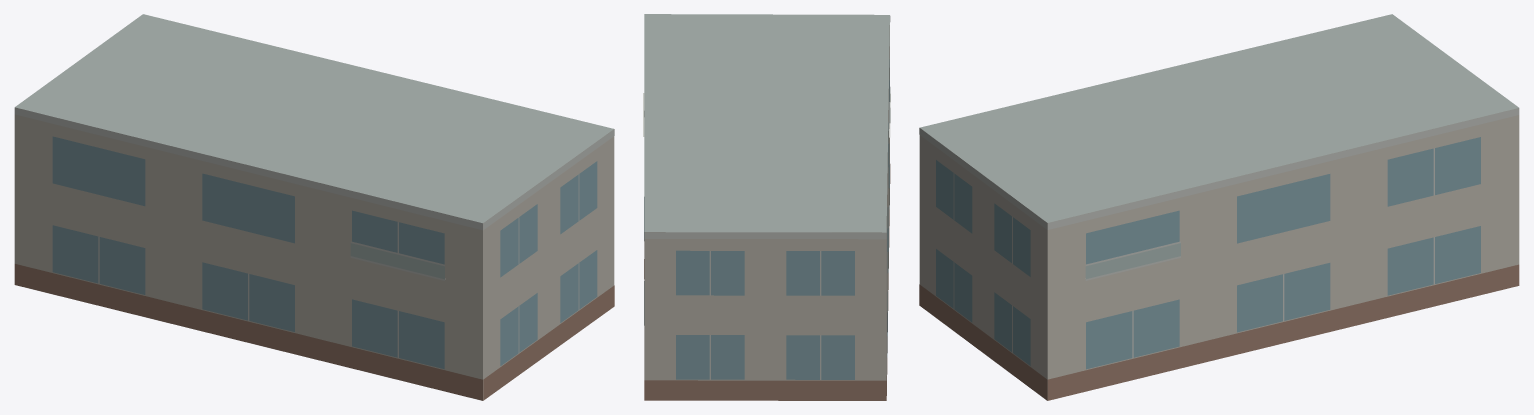
Rendered from survey-upis-32684299.glb.
The picture shows the model from 3 angles, left to right: view 1: azimuth 30°, elevation 25°; view 2: azimuth 150°, elevation 25°; view 3: azimuth 270°, elevation 25°; orthographic projection. The views are drawn at different scales.
Visible parts, largest first — view 1: survey-upis-32684299.tmp; view 2: survey-upis-32684299.tmp; view 3: survey-upis-32684299.tmp.
Boxes of the visible parts, x1,y1,x2,y2 form: survey-upis-32684299.tmp: [14, 14, 614, 400]; survey-upis-32684299.tmp: [643, 14, 890, 400]; survey-upis-32684299.tmp: [919, 14, 1519, 400].
Bounding box in the file's own units: 15.38 × 6.1 × 18.65.
